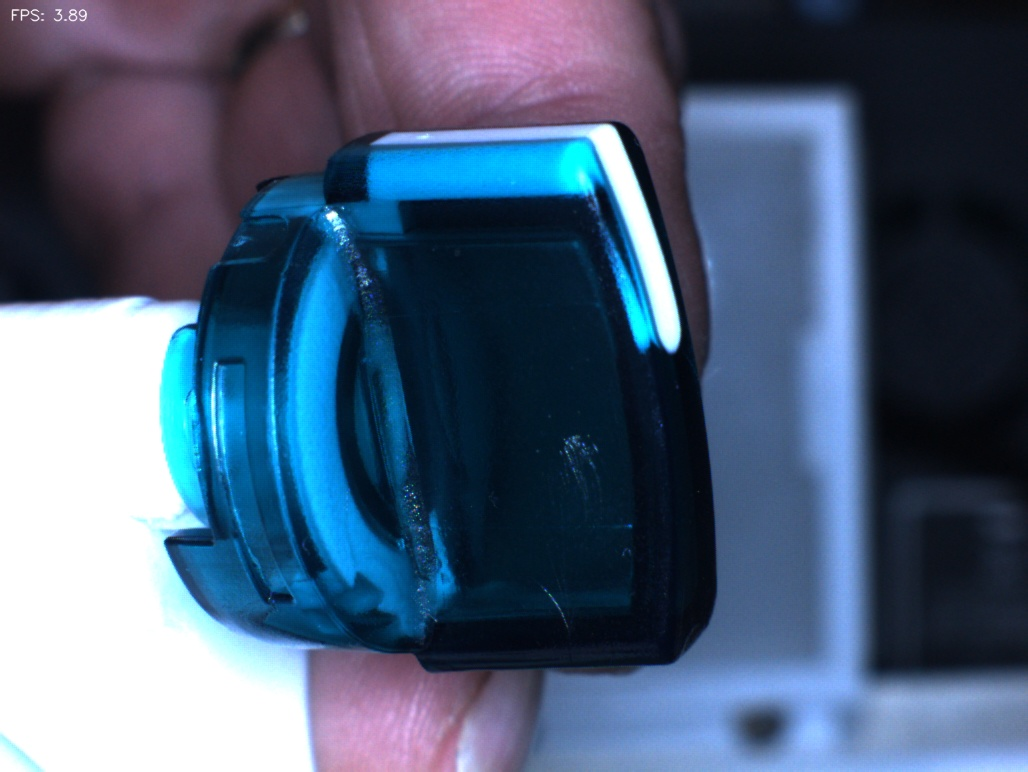Givrage: (529, 422, 620, 639)
